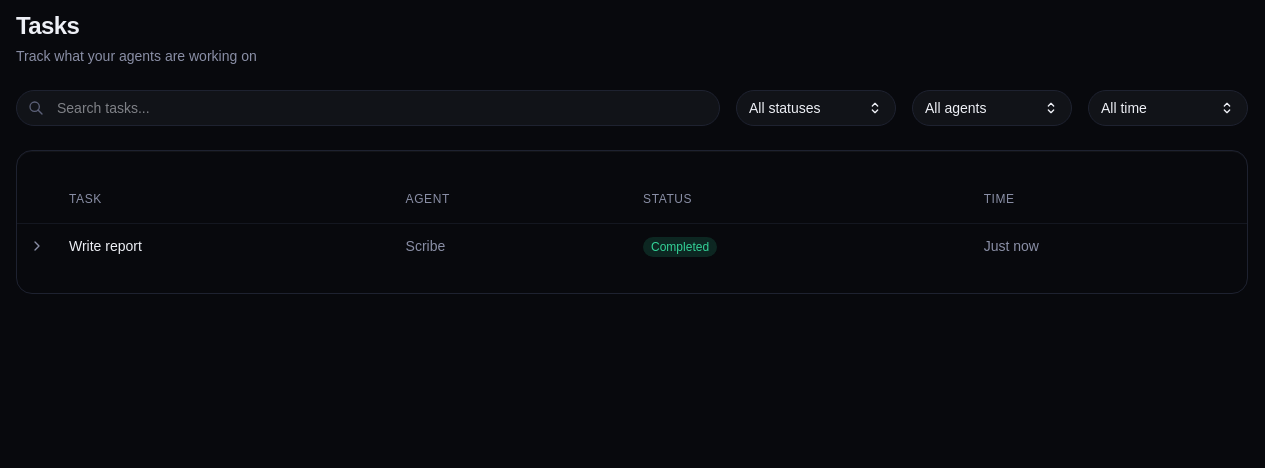
Test: Tasks page › expands a row on click and loads detail
Click the text "Write report": point(105, 246) [57,223,394,268]
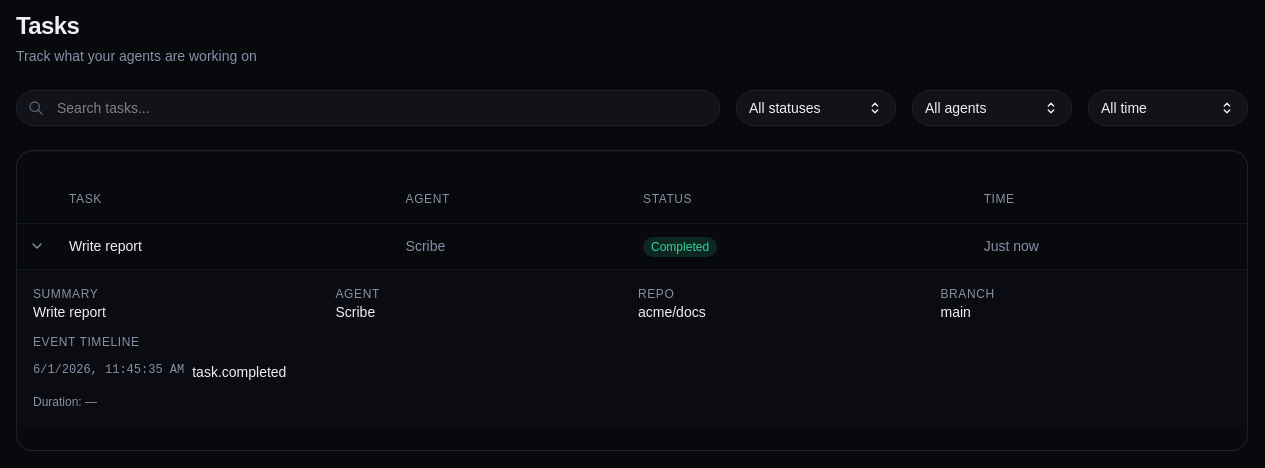
Expected: the text "task.completed" is shown, [192,362,286,382]
Expected: the text "acme/docs" is shown, [638,304,706,320]
Expected: the text "Event timeline" is shown, [33,334,140,348]
